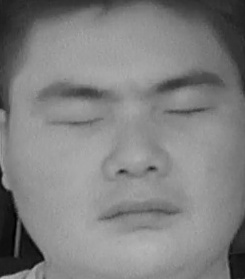blink: (53, 103, 103, 135), (166, 92, 211, 124)
mouth: (94, 186, 182, 233)
